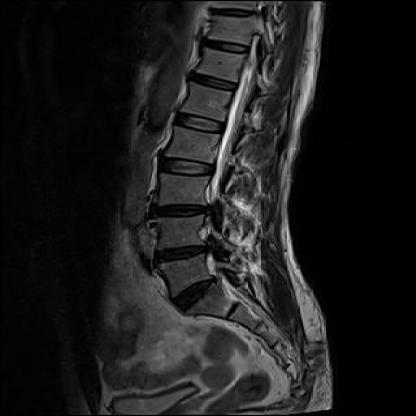Degenerative Disc Diseaserotation: (166, 278, 228, 309)
Disc Bulgerotation: (144, 198, 217, 225), (148, 239, 219, 266)
